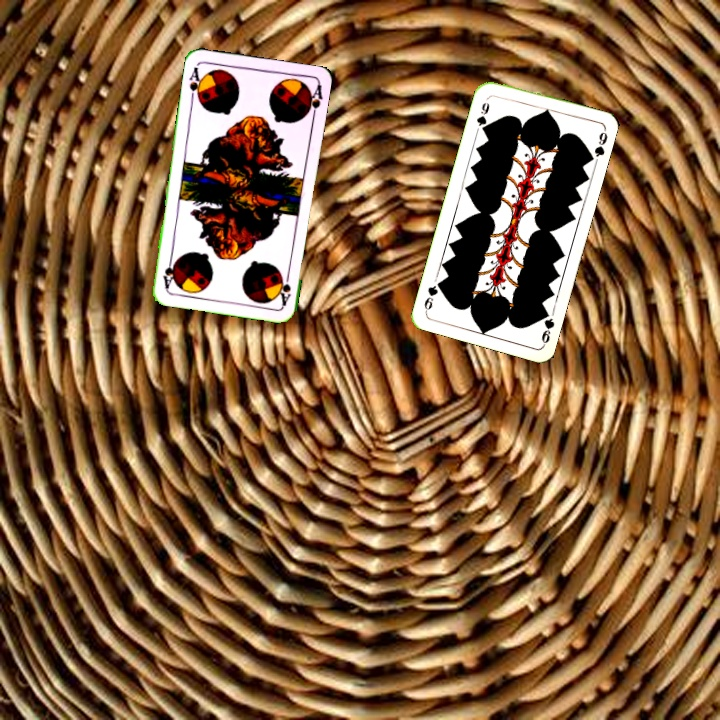G9: (537, 306, 557, 348), (473, 98, 492, 134)
SA: (185, 63, 206, 104), (274, 267, 293, 308)
